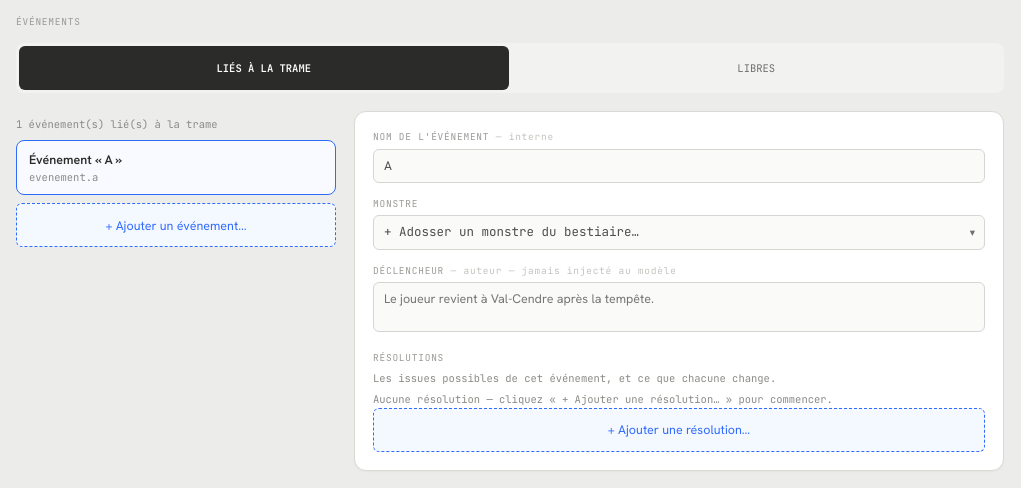
Test: PanneauEvenements › libelle monstre derive: Select MONSTRE renseigne affiche Monstre : {nom}, document sans cle nature (critere #2)
Expected: the text "Monstre :" is not shown
Select "Gobelin" in the dropdown labelled "MONSTRE" at point(679, 232), box x1=373 y1=215 x2=985 y2=250
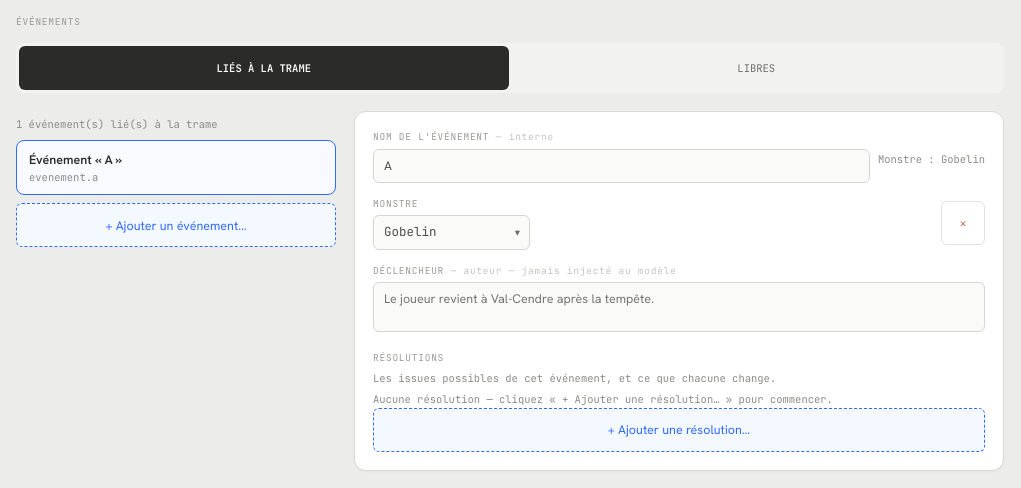
Now the text "Monstre : Gobelin" is shown, box x1=878 y1=152 x2=985 y2=167
Now the dropdown labelled "MONSTRE" shows "Gobelin", box x1=373 y1=215 x2=530 y2=250
